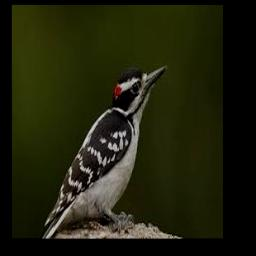Woodpecker: (41, 64, 167, 239)
